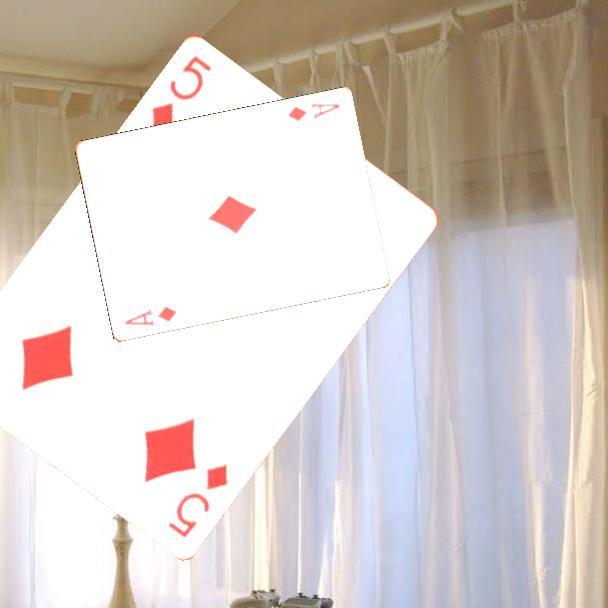d01: (121, 303, 180, 329), (284, 99, 342, 124)
d05: (148, 51, 215, 132), (164, 459, 231, 540)
